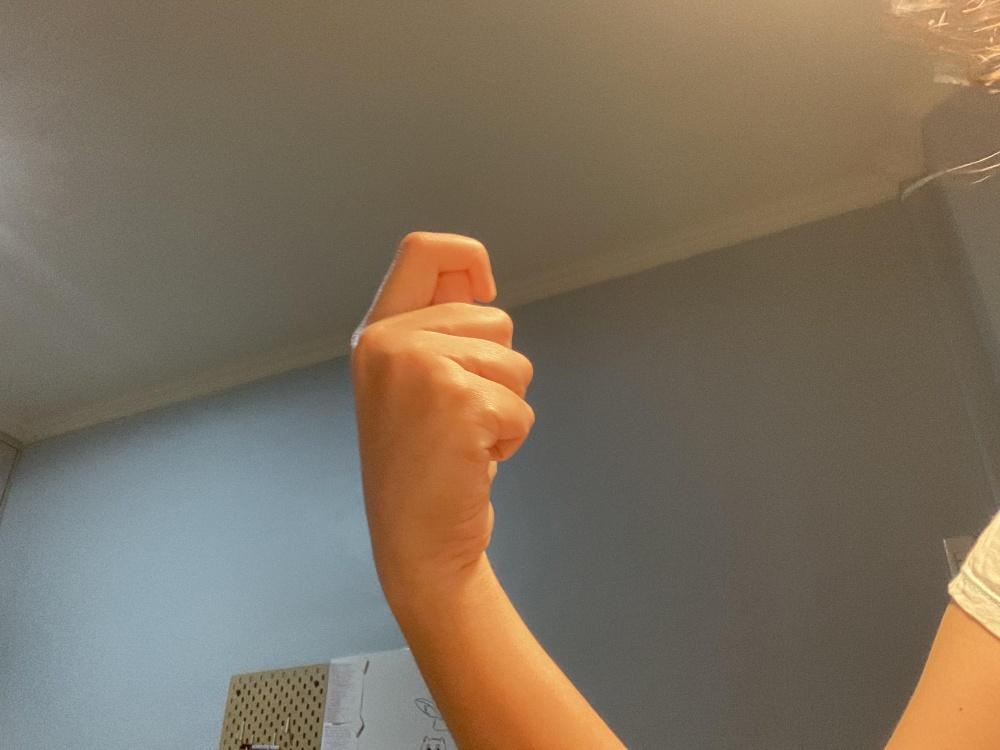t: (348, 230, 534, 576)
